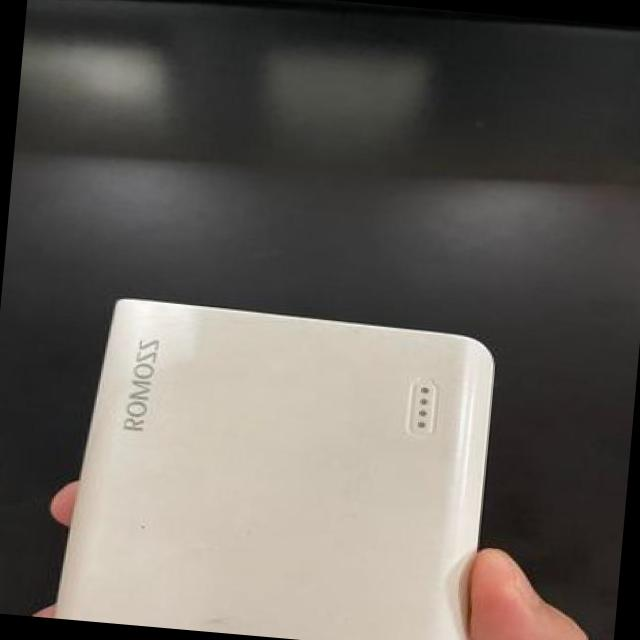power_bank: (56, 288, 511, 640)
